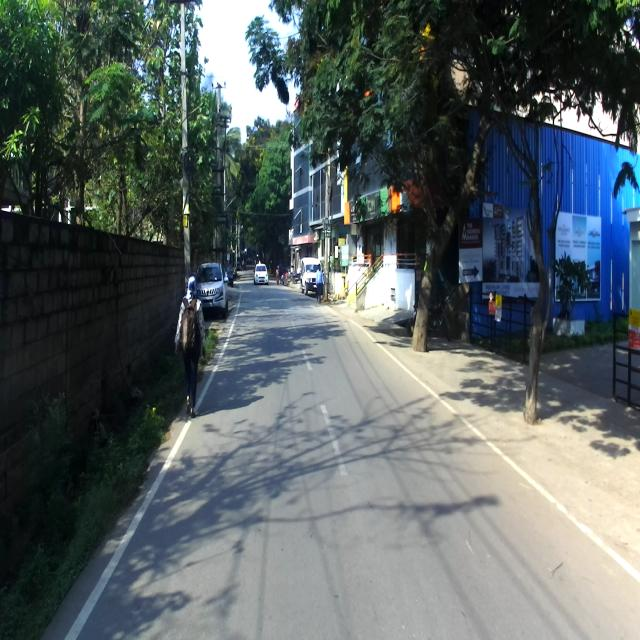person ahead at: (175, 274, 209, 412)
tree ahead at: (509, 109, 562, 415)
